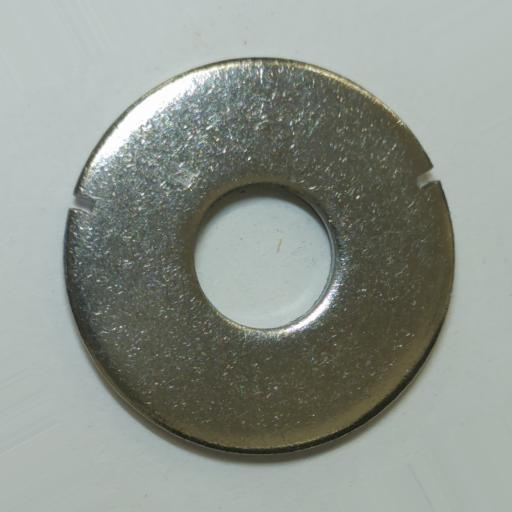burr: (67, 191, 98, 216), (411, 166, 441, 191)
